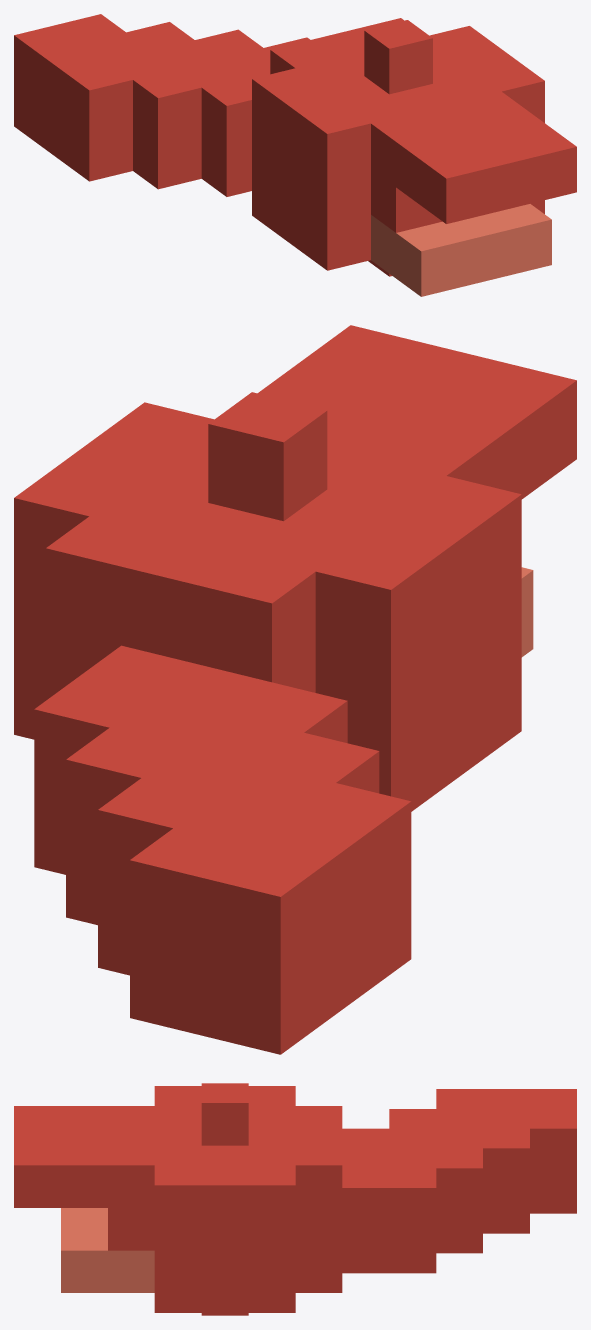
File: crab__claw_l.fbx
The picture shows the model from 3 angles, top to bottom: view 1: azimuth 30°, elevation 25°; view 2: azimuth 150°, elevation 25°; view 3: azimuth 270°, elevation 25°; orthographic projection. The views are drawn at different scales.
Visible parts, largest first — view 1: crab__claw_l; view 2: crab__claw_l; view 3: crab__claw_l.
Boxes of the visible parts, <box> form: crab__claw_l: <box>14,14,576,296</box>; crab__claw_l: <box>14,325,576,1054</box>; crab__claw_l: <box>14,1083,576,1315</box>.
Size of the model in its own units: 0.7 by 0.5 by 1.2.
Materials: 1 (1 with a texture image).
